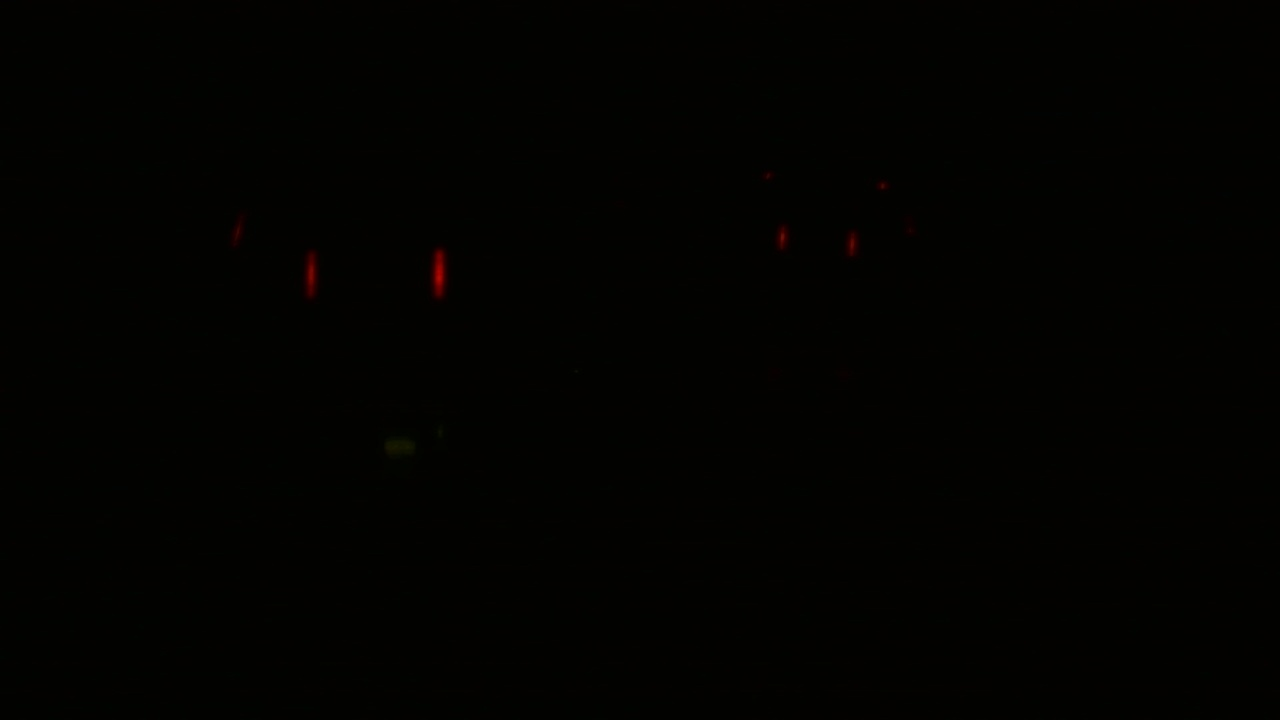pair1: (303, 245, 447, 299), (769, 222, 862, 259)
